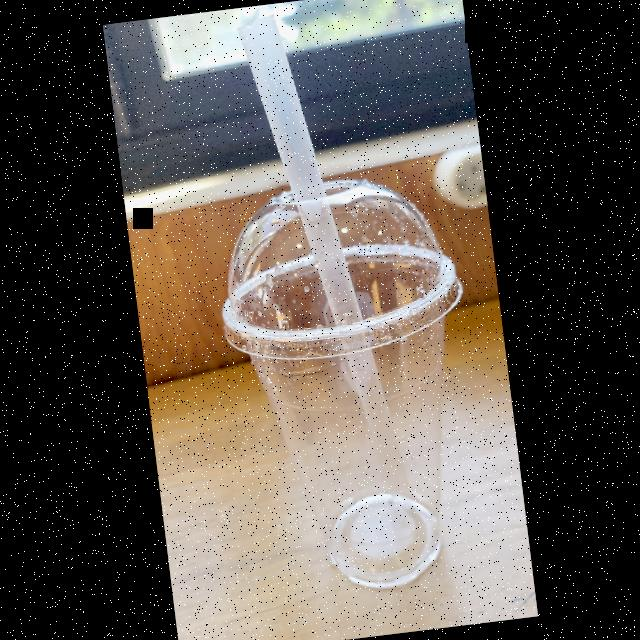plastic_cup: (205, 164, 502, 607)
plastic_cup_lid: (204, 165, 472, 372)
straw: (239, 7, 417, 530)
